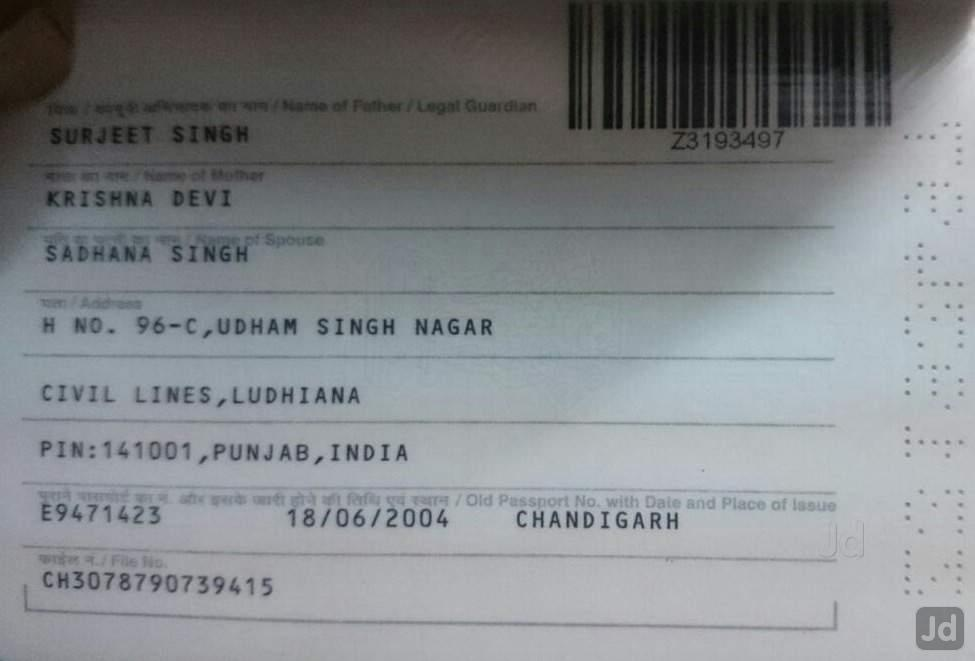File_no: (26, 563, 287, 619)
address: (26, 310, 536, 487)
father_name: (30, 115, 263, 154)
mother_name: (27, 180, 240, 216)
old_passport_details: (25, 495, 684, 543)
passport_no: (659, 120, 804, 169)
spouse_name: (26, 237, 267, 279)
